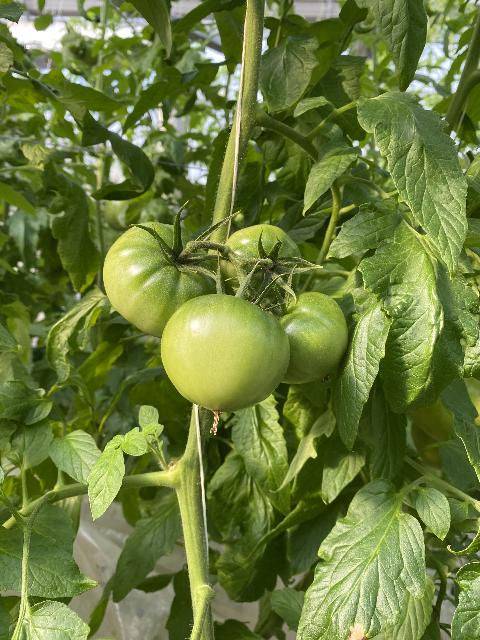b_green: (160, 293, 291, 413), (102, 222, 225, 339), (266, 291, 350, 383), (217, 224, 303, 312)
